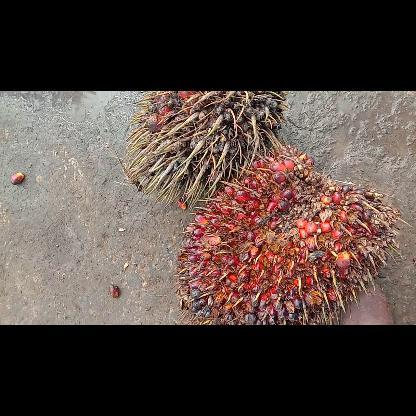TBS abnormal: (122, 90, 288, 206)
TBS masak: (174, 146, 402, 324)
